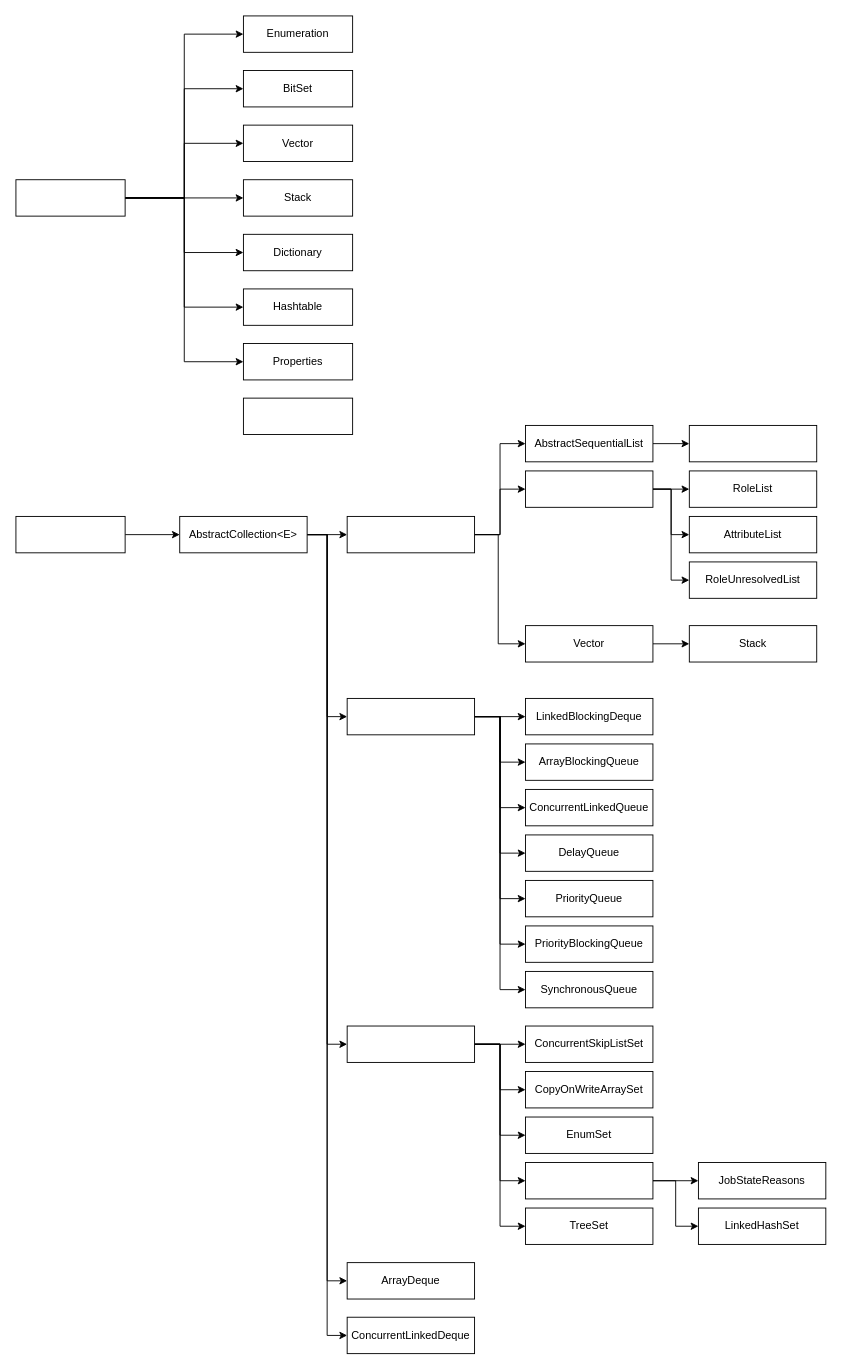
Some shapes in this 842 by 1370 pixel diagram are drawn without their labels. Here are the shapes that lost their labels. From the top down, the box of each, then its label:
(15, 179, 125, 216): Data Structure
(243, 397, 353, 435): Graphs
(688, 425, 817, 462): LinkedList
(525, 470, 653, 507): ArrayList
(15, 516, 125, 553): java.lang.Object
(346, 516, 475, 553): AbstractList
(346, 698, 475, 735): AbstractQueue
(346, 1025, 475, 1062): AbstractSet
(525, 1162, 653, 1199): HashSet
